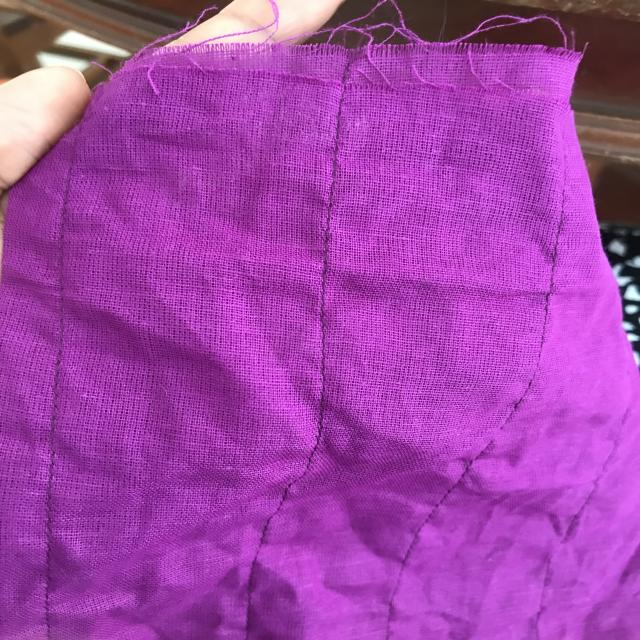good: (303, 326, 342, 390)
